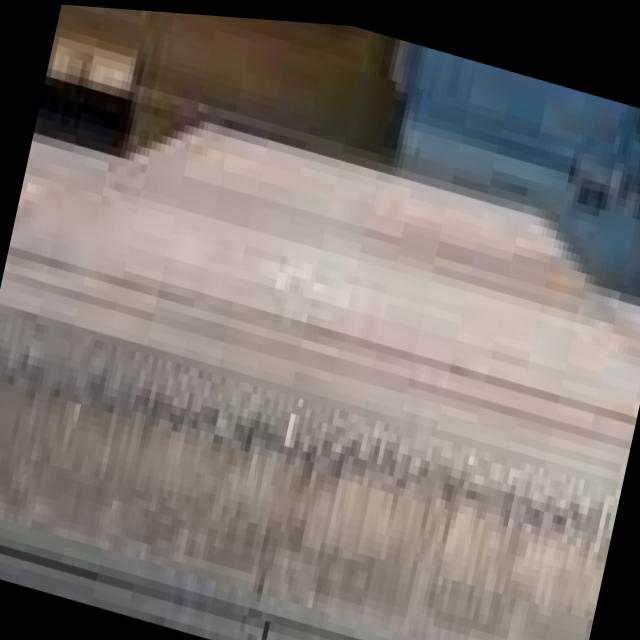metal-plates: (1, 160, 640, 640)
